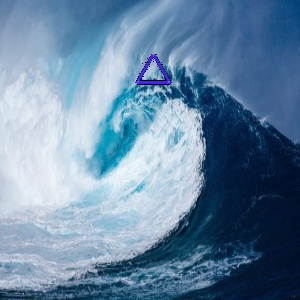triangle: (133, 51, 174, 88)
